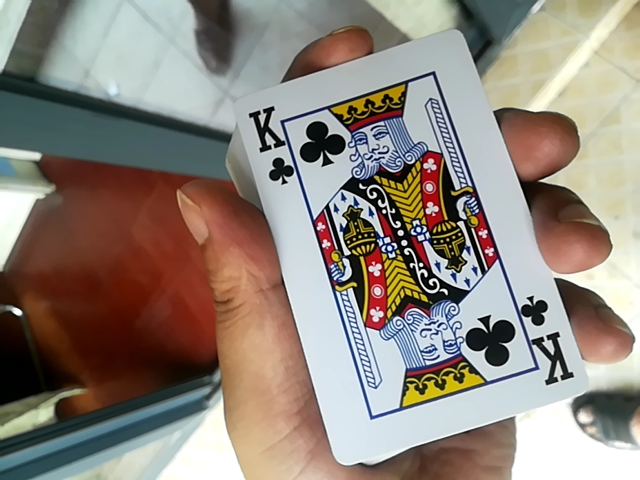mh k: (215, 5, 602, 474)
